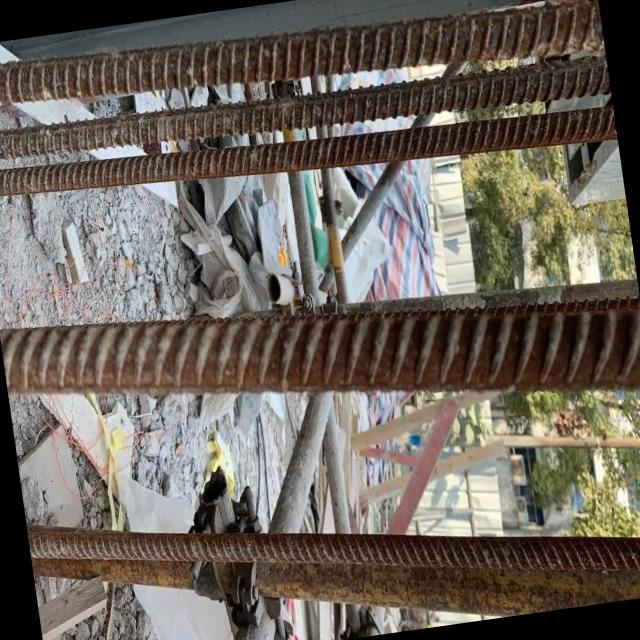ribbed bar: (0, 229, 640, 484), (26, 434, 640, 640), (0, 84, 618, 230), (0, 44, 612, 187), (0, 0, 604, 132)
